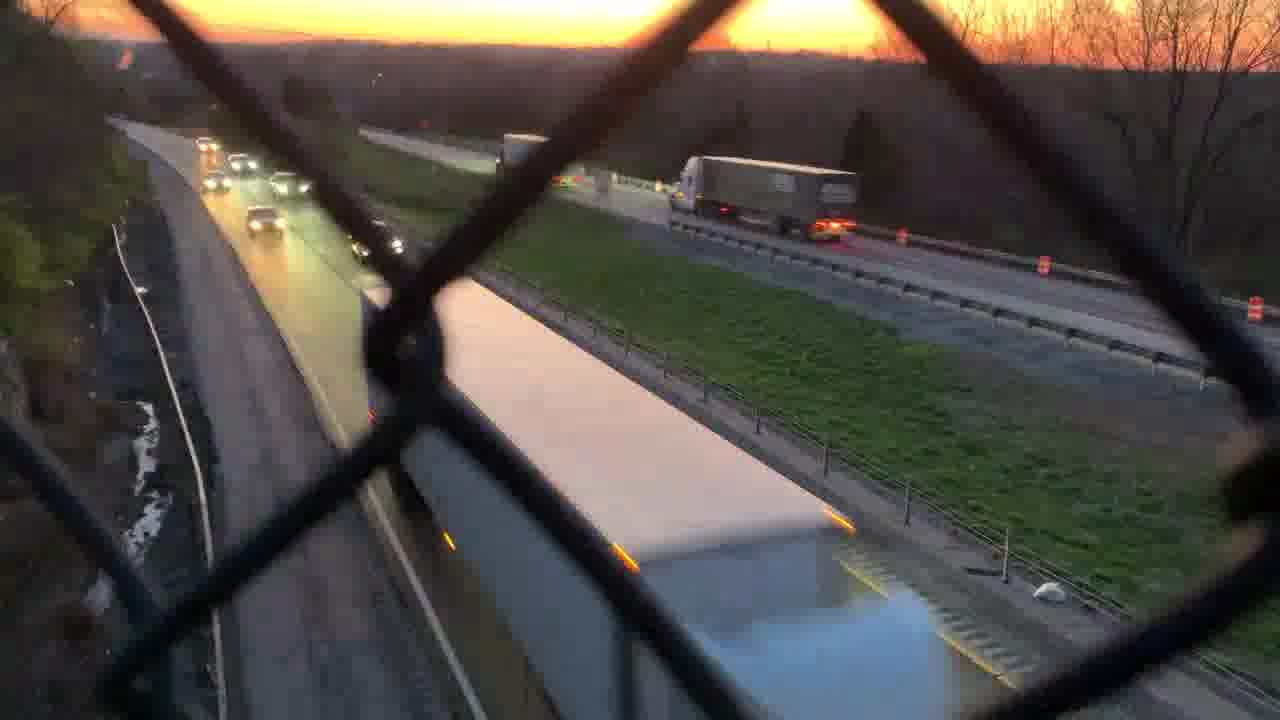heavyTruck: (361, 273, 967, 720), (666, 152, 864, 240)
